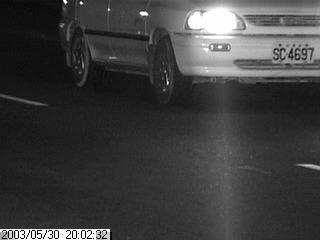plate: (270, 38, 315, 66)
